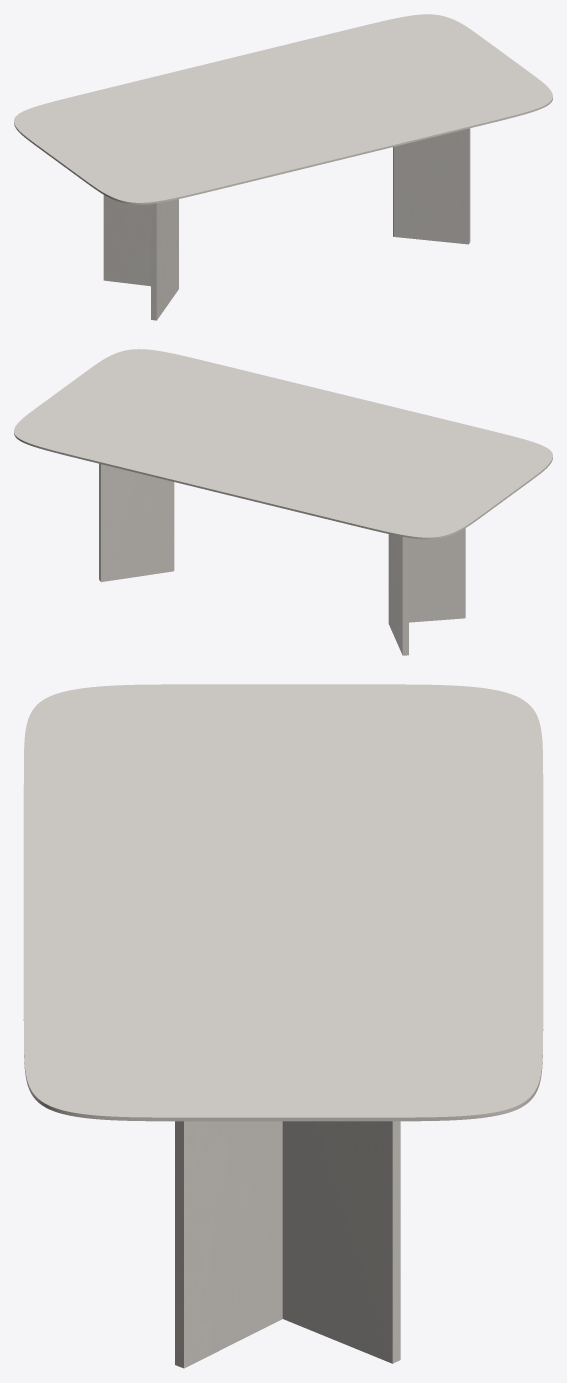
File: pearlwhite_softrecta_facet_valleyv.glb
3 views of the same model, one above another, from view 1: azimuth 30°, elevation 25°; view 2: azimuth 150°, elevation 25°; view 3: azimuth 270°, elevation 25° (orthographic). The views are drawn at different scales.
Parts seen in each view (by area): view 1: facet_softrecta, valleyv; view 2: facet_softrecta, valleyv; view 3: facet_softrecta, valleyv.
Part boxes in pixels (x1=…): facet_softrecta: x1=14, y1=14, x2=552, y2=204; valleyv: x1=103, y1=128, x2=470, y2=320; facet_softrecta: x1=14, y1=349, x2=552, y2=539; valleyv: x1=99, y1=463, x2=465, y2=655; facet_softrecta: x1=23, y1=684, x2=543, y2=1121; valleyv: x1=175, y1=1121, x2=400, y2=1368.
Size of the model in its own units: 7.5 by 2.5 by 3.8.
Materials: 1 (1 with a texture image).
